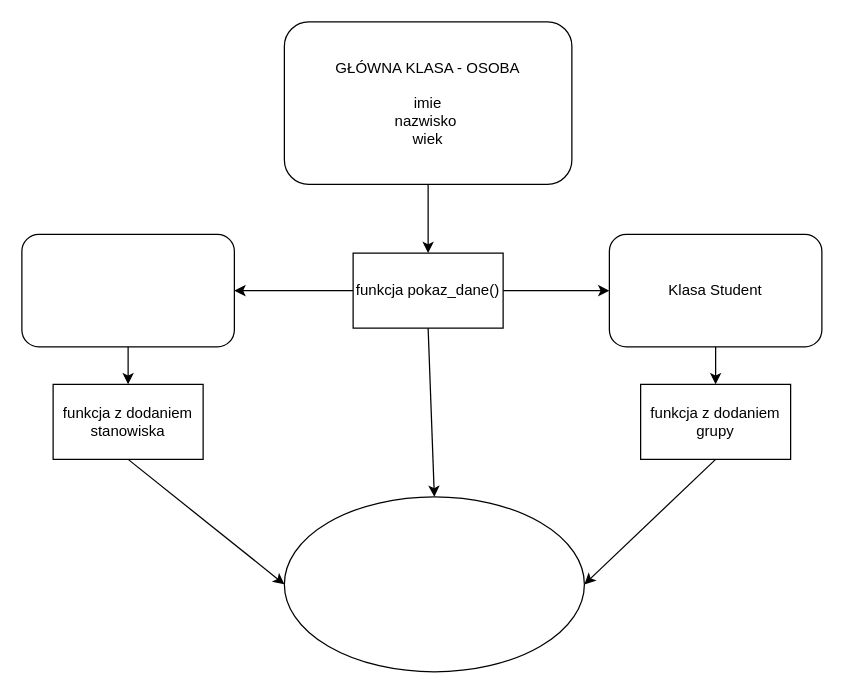
Some shapes in this 844 by 694 pixel diagram are drawn without their labels. The shapes that lost their labels are listed below. From the top down, each one's box as (x1, y1, x2, y2) in pixels, then its label:
(21, 233, 234, 347): Klasa Pracownik
(283, 496, 584, 672): MAIN
